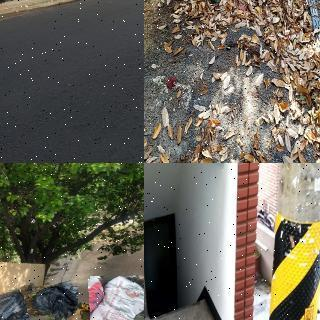Garbage: (89, 274, 144, 320), (25, 283, 80, 320), (0, 286, 45, 320)
